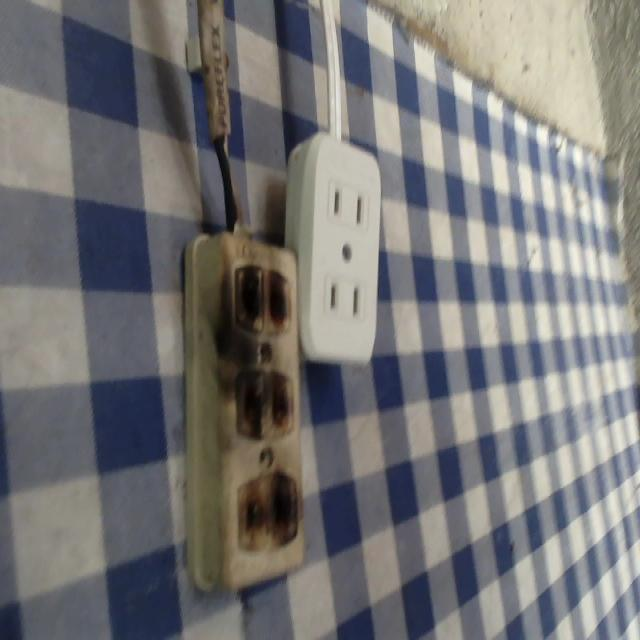-: (235, 469, 301, 551), (226, 258, 295, 334), (228, 368, 296, 439)
